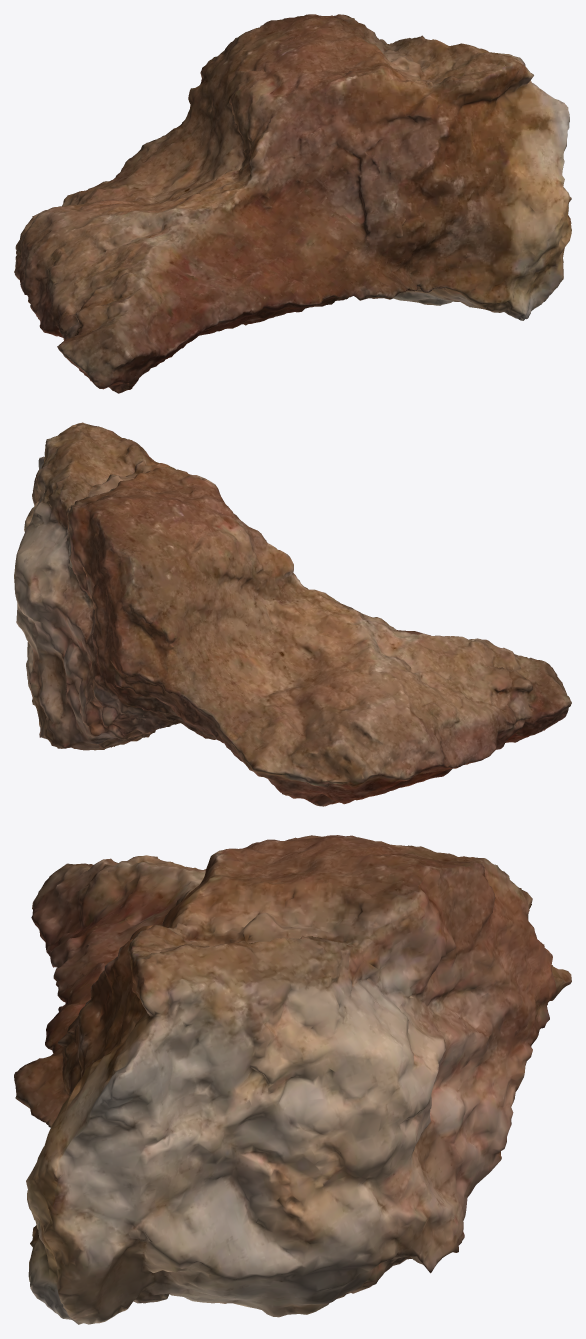
File: stone_01.glb
The picture shows the model from 3 angles, top to bottom: view 1: azimuth 30°, elevation 25°; view 2: azimuth 150°, elevation 25°; view 3: azimuth 270°, elevation 25°; orthographic projection. The views are drawn at different scales.
Parts seen in each view (by area): view 1: stone_01; view 2: stone_01; view 3: stone_01.
Boxes of the visible parts, bbox=[...] form: stone_01: bbox=[14, 14, 571, 393]; stone_01: bbox=[14, 422, 571, 806]; stone_01: bbox=[14, 835, 571, 1324].
Size of the model in its own units: 0.1469 by 0.0718 by 0.0891.
Materials: 1 (1 with a texture image).
